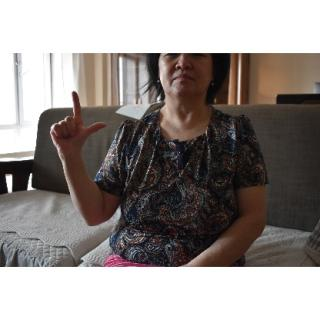LAAM: (43, 86, 110, 154)
